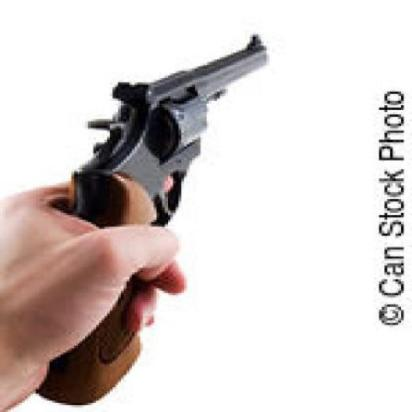Gun: (26, 31, 277, 410)
